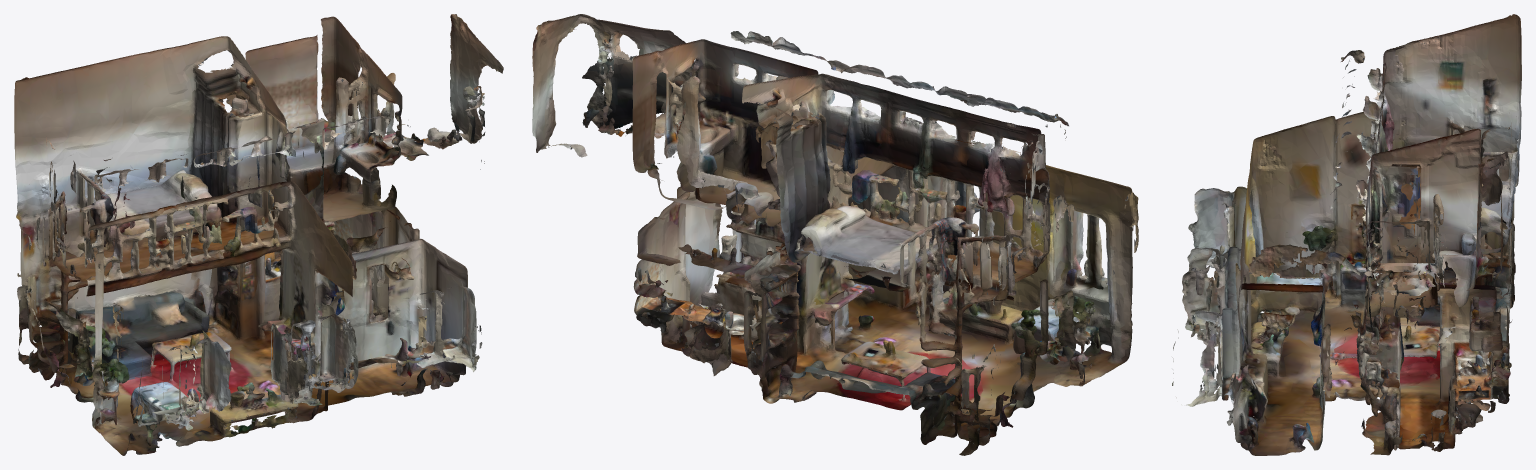
File: depa.glb
3 views of the same model, side by side, from view 1: azimuth 30°, elevation 25°; view 2: azimuth 150°, elevation 25°; view 3: azimuth 270°, elevation 25° (orthographic). The views are drawn at different scales.
Parts seen in each view (by area): view 1: depa; view 2: depa; view 3: depa.
Boxes of the visible parts, x1=… form: depa: x1=14, y1=14, x2=503, y2=455; depa: x1=532, y1=14, x2=1138, y2=455; depa: x1=1172, y1=14, x2=1521, y2=455.
Bounding box in the file's own units: 8.9 × 5.41 × 6.02.
1 material, 1 textured.
